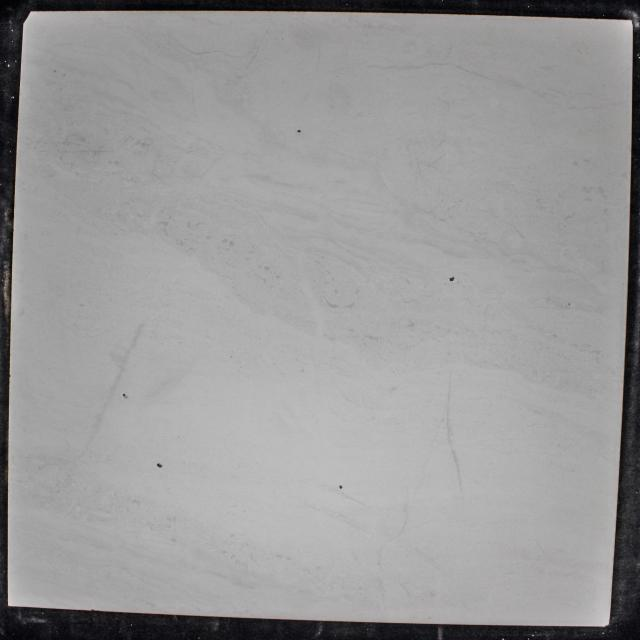edge-chipping: (24, 11, 32, 23)
hole: (448, 275, 455, 283), (155, 462, 163, 469), (121, 392, 127, 398), (296, 128, 302, 134), (338, 484, 343, 490)
